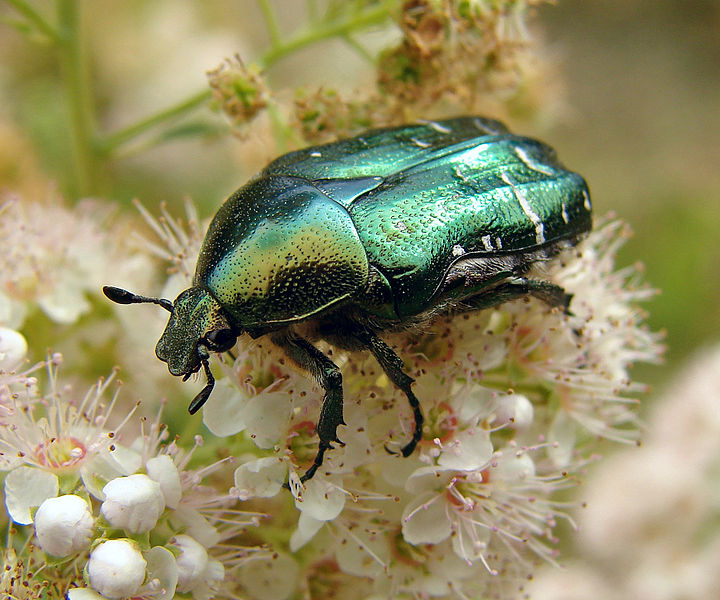Cetonia_aurata: (82, 97, 595, 472)
